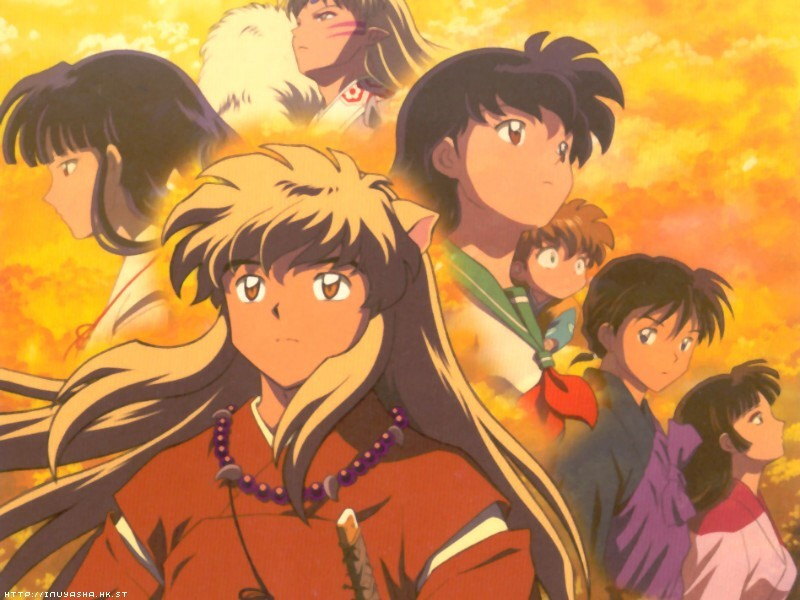sesshomaru: (274, 1, 404, 108)
